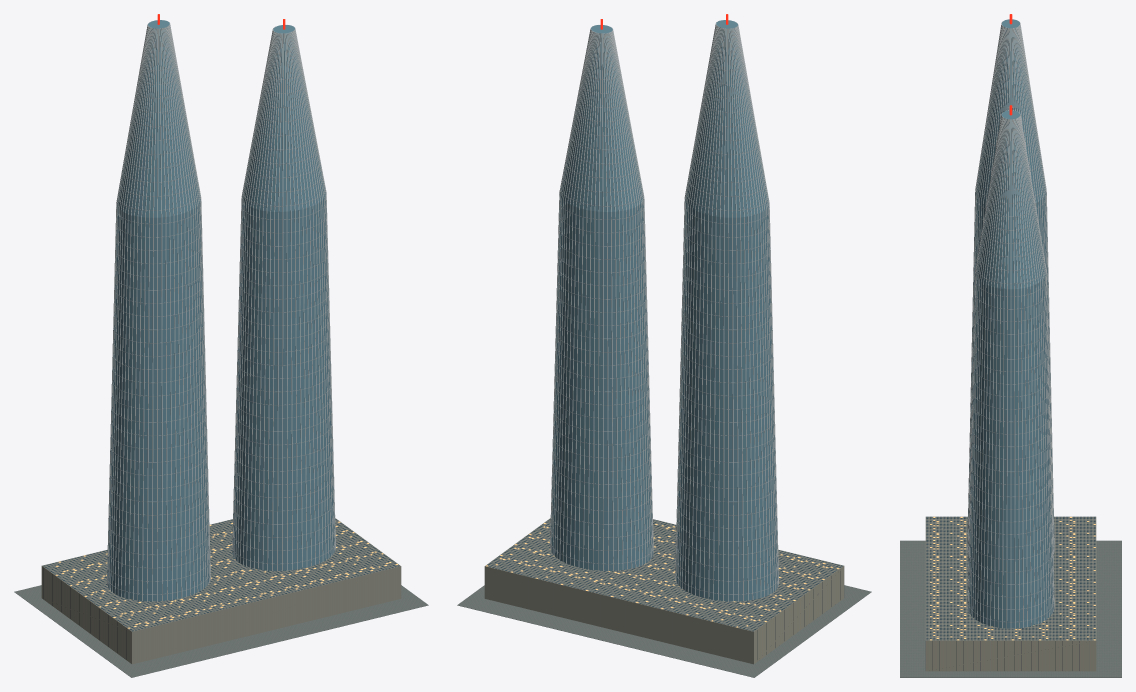
The model's file is landmarks.glb.
3 views of the same model, side by side, from view 1: azimuth 30°, elevation 25°; view 2: azimuth 150°, elevation 25°; view 3: azimuth 270°, elevation 25° (orthographic). The views are drawn at different scales.
Visible parts, largest first — view 1: landmark_shimao_landmarkglass, landmark_shimao_silver, landmark_shimao_stone, landmark_shimao_steel, landmark_shimao_pavement; view 2: landmark_shimao_landmarkglass, landmark_shimao_silver, landmark_shimao_stone, landmark_shimao_steel, landmark_shimao_pavement; view 3: landmark_shimao_landmarkglass, landmark_shimao_silver, landmark_shimao_stone, landmark_shimao_pavement, landmark_shimao_steel.
Boxes of the visible parts, bbox=[...] form: landmark_shimao_landmarkglass: bbox=[107, 20, 334, 601]; landmark_shimao_silver: bbox=[107, 20, 335, 601]; landmark_shimao_stone: bbox=[41, 518, 401, 664]; landmark_shimao_steel: bbox=[107, 64, 335, 594]; landmark_shimao_pavement: bbox=[14, 585, 428, 677]; landmark_shimao_landmarkglass: bbox=[551, 20, 778, 601]; landmark_shimao_silver: bbox=[550, 20, 778, 601]; landmark_shimao_stone: bbox=[484, 518, 844, 664]; landmark_shimao_steel: bbox=[550, 64, 778, 594]; landmark_shimao_pavement: bbox=[457, 585, 871, 677]; landmark_shimao_landmarkglass: bbox=[968, 19, 1053, 628]; landmark_shimao_silver: bbox=[967, 20, 1054, 628]; landmark_shimao_stone: bbox=[925, 516, 1096, 671]; landmark_shimao_pavement: bbox=[900, 540, 1121, 677]; landmark_shimao_steel: bbox=[968, 62, 1054, 622].
Bounding box in the file's own units: 95 × 183 × 65.
6 materials, 2 textured.
